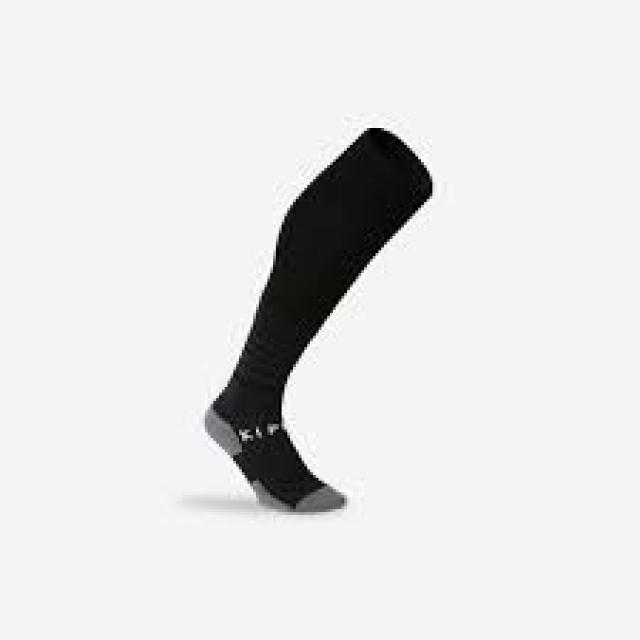sock: (202, 125, 432, 512)
